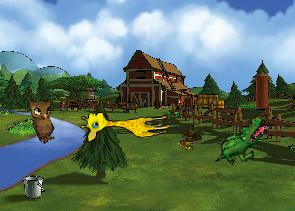crocodile: (213, 107, 272, 176)
giraffe: (79, 103, 171, 143)
owl: (22, 91, 67, 145)
